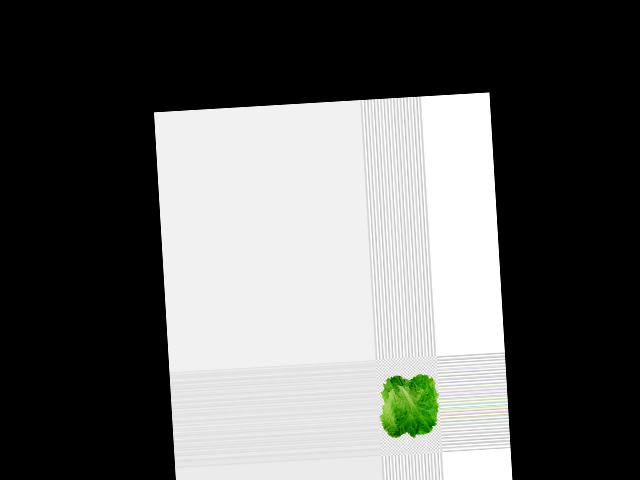lettuce: (375, 368, 442, 443)
